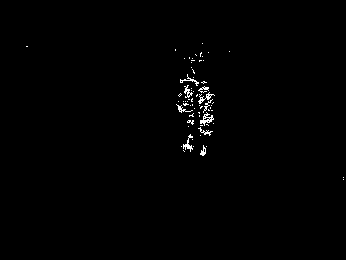person: (195, 79, 212, 156), (178, 72, 194, 152)
